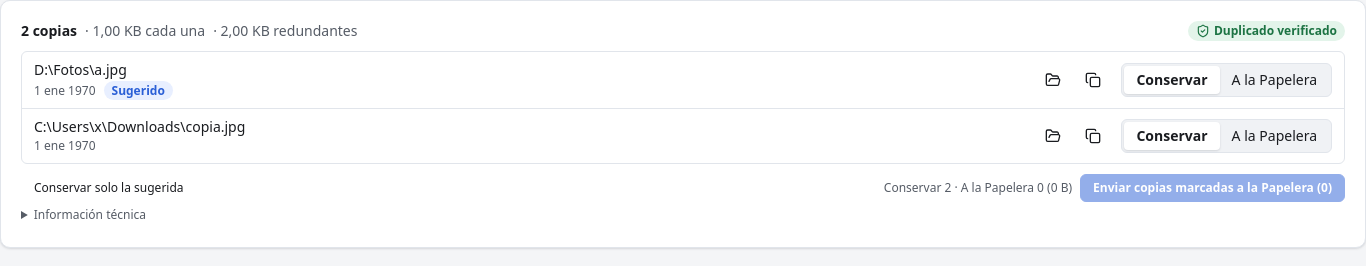
Test case: duplicates › keeps at least one copy
Step 1. Click the radio button labelled "A la Papelera" in the row of "D:\\Fotos\\a.jpg" → (1274, 80), box [1220,66,1329,94]
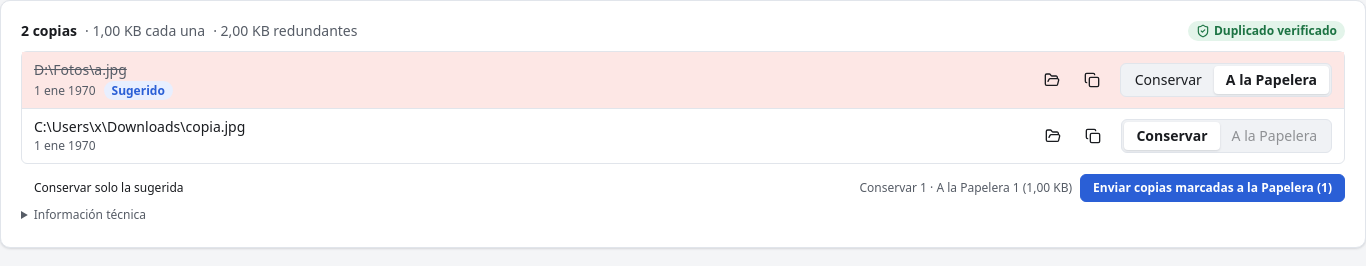
Now the radio button labelled "A la Papelera" in the row of "C:\\Users\\x\\Downloads\\copia.jpg" is disabled, box [1220,122,1329,150]
